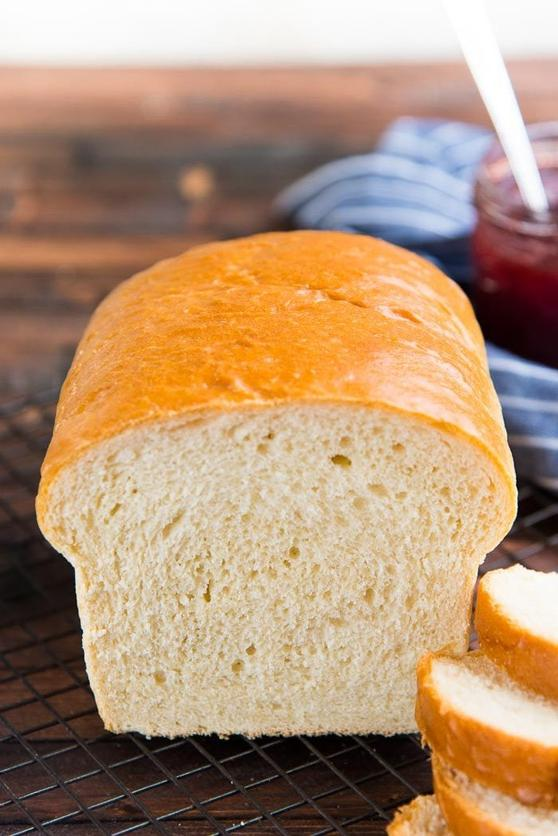white_bread: (41, 233, 519, 750)
